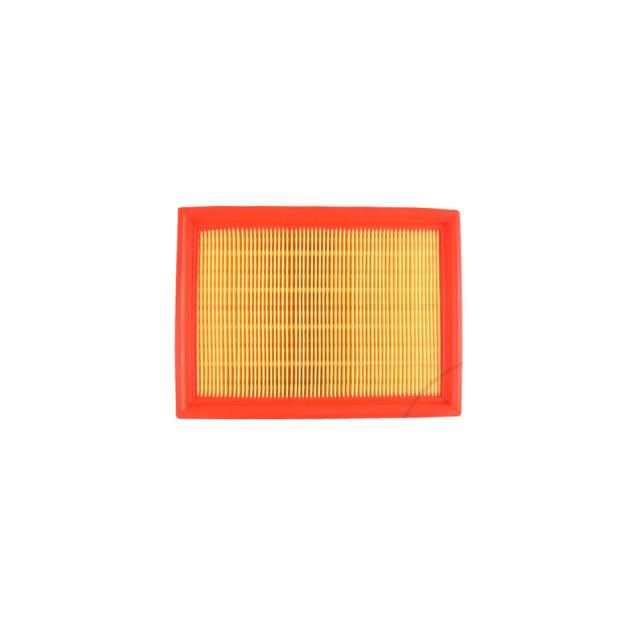air_filter: (173, 200, 472, 432)
